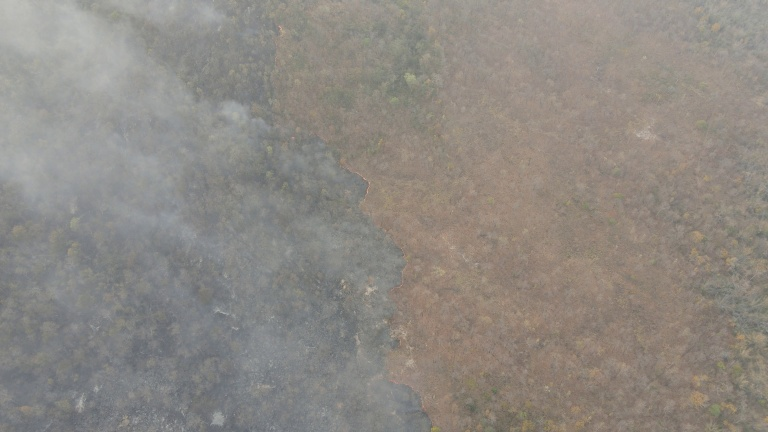fire: (333, 157, 388, 229), (386, 375, 441, 432), (389, 240, 430, 305), (272, 20, 290, 44)
smoke: (1, 1, 443, 430)
